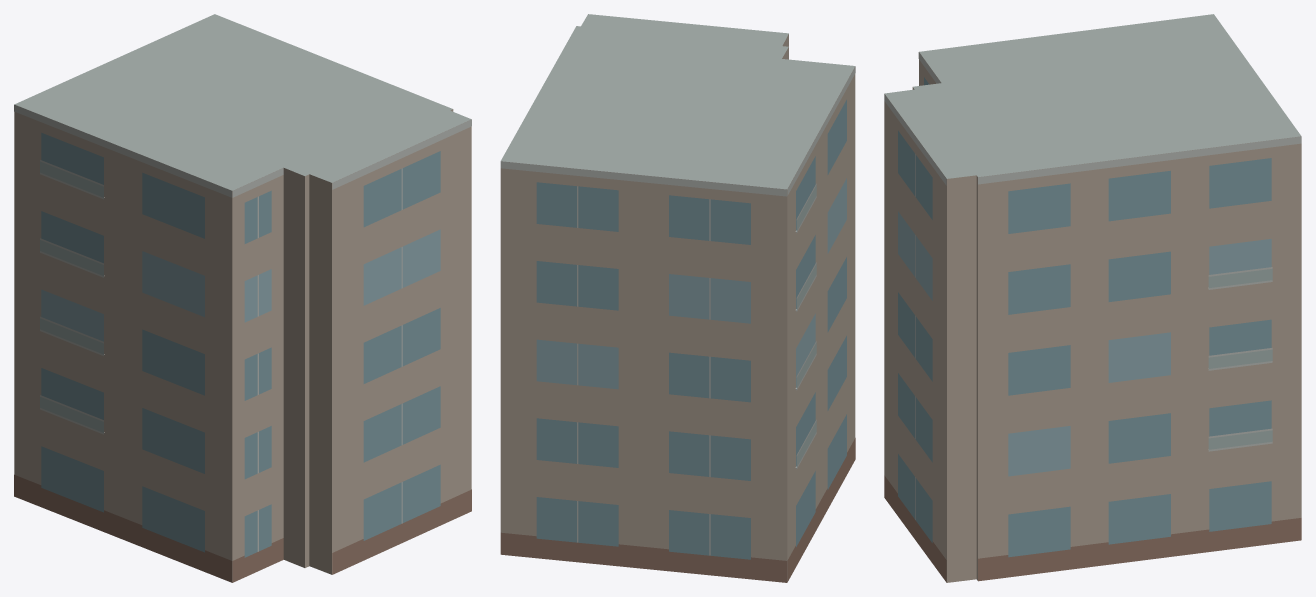
The model's file is survey-upis-32669383.glb.
The picture shows the model from 3 angles, left to right: view 1: azimuth 30°, elevation 25°; view 2: azimuth 150°, elevation 25°; view 3: azimuth 270°, elevation 25°; orthographic projection. The views are drawn at different scales.
Parts seen in each view (by area): view 1: survey-upis-32669383.tmp; view 2: survey-upis-32669383.tmp; view 3: survey-upis-32669383.tmp.
Boxes of the visible parts, x1,y1,x2,y2 form: survey-upis-32669383.tmp: (14, 14, 471, 582); survey-upis-32669383.tmp: (500, 14, 855, 582); survey-upis-32669383.tmp: (884, 14, 1301, 582).
Size of the model in its own units: 11.82 by 13.5 by 12.65.
